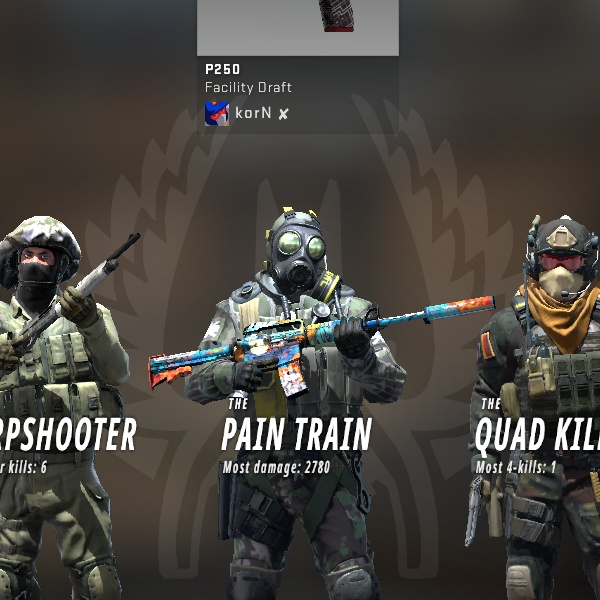ct_body: (172, 204, 385, 590), (429, 179, 586, 600), (0, 198, 159, 600)
ct_head: (0, 205, 93, 310), (511, 200, 597, 313)
